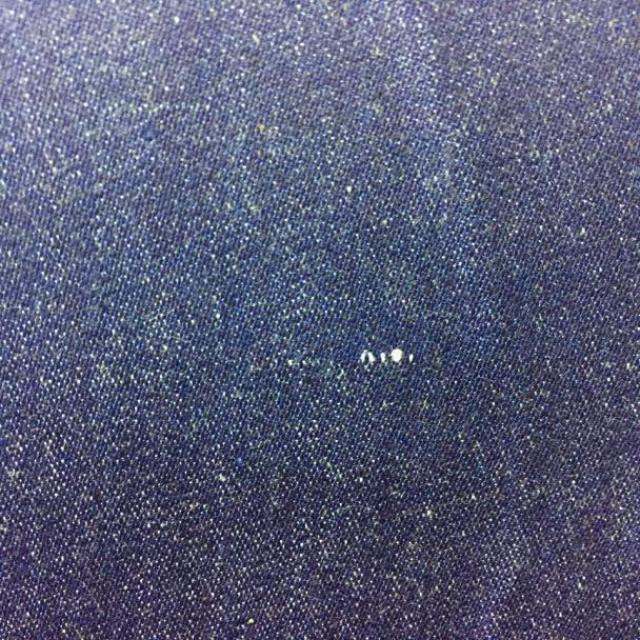Knot: (360, 348, 416, 368)
